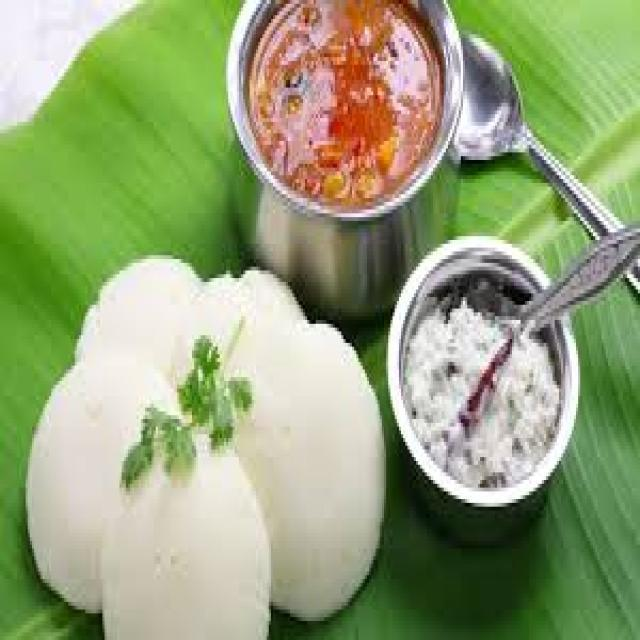pickle: (255, 0, 434, 214), (447, 267, 525, 327)
sweet: (395, 289, 576, 504)
